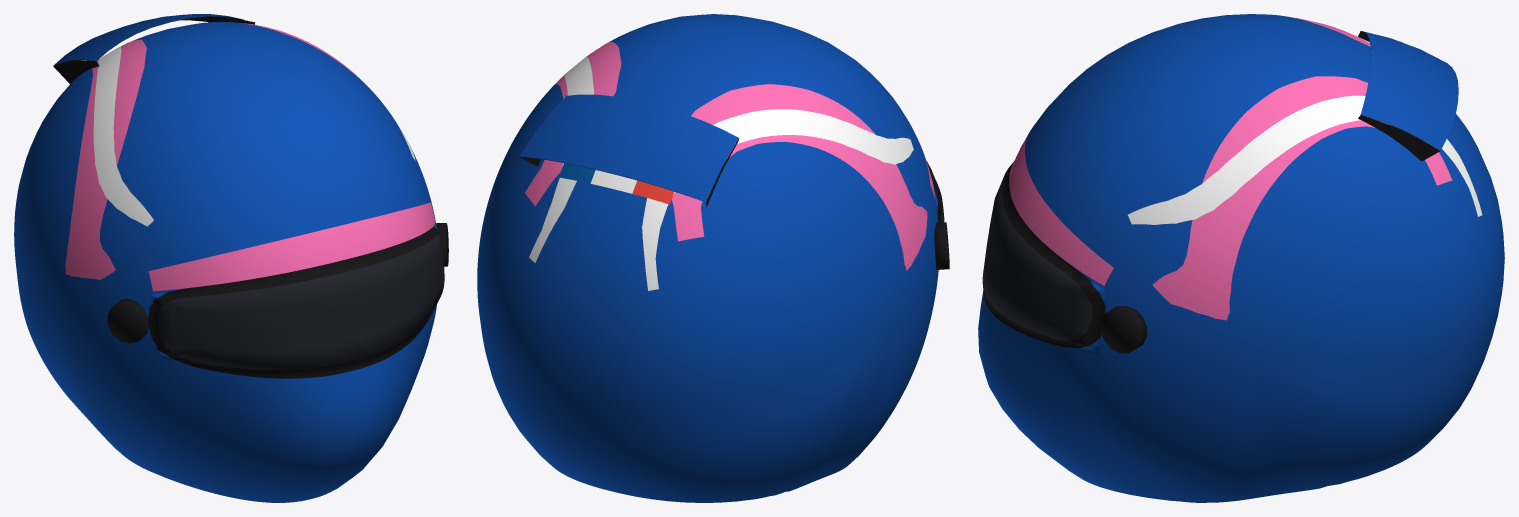
Rendered from OCO.glb.
The picture shows the model from 3 angles, left to right: view 1: azimuth 30°, elevation 25°; view 2: azimuth 150°, elevation 25°; view 3: azimuth 270°, elevation 25°; orthographic projection. The views are drawn at different scales.
Parts seen in each view (by area): view 1: helmet; view 2: helmet; view 3: helmet.
Part boxes in pixels (x1=…): helmet: x1=14, y1=14, x2=448, y2=502; helmet: x1=477, y1=14, x2=949, y2=502; helmet: x1=978, y1=14, x2=1504, y2=502.
Size of the model in its own units: 0.256 by 0.2772 by 0.3111.
